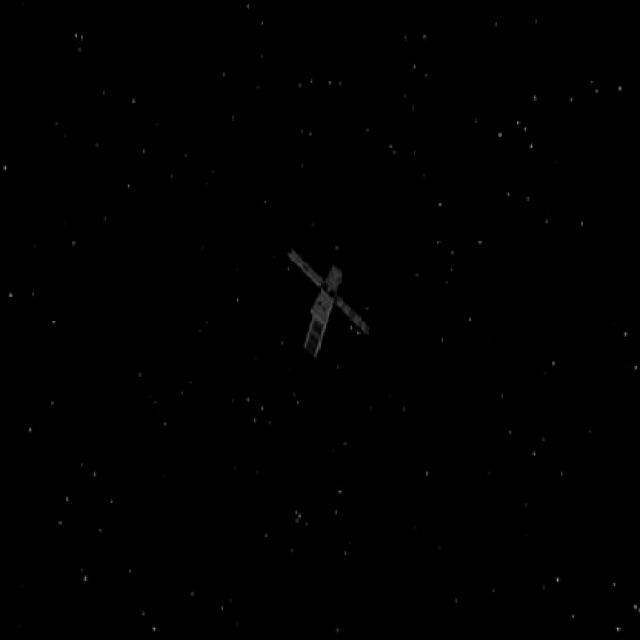medium_debris: (277, 233, 381, 379)
